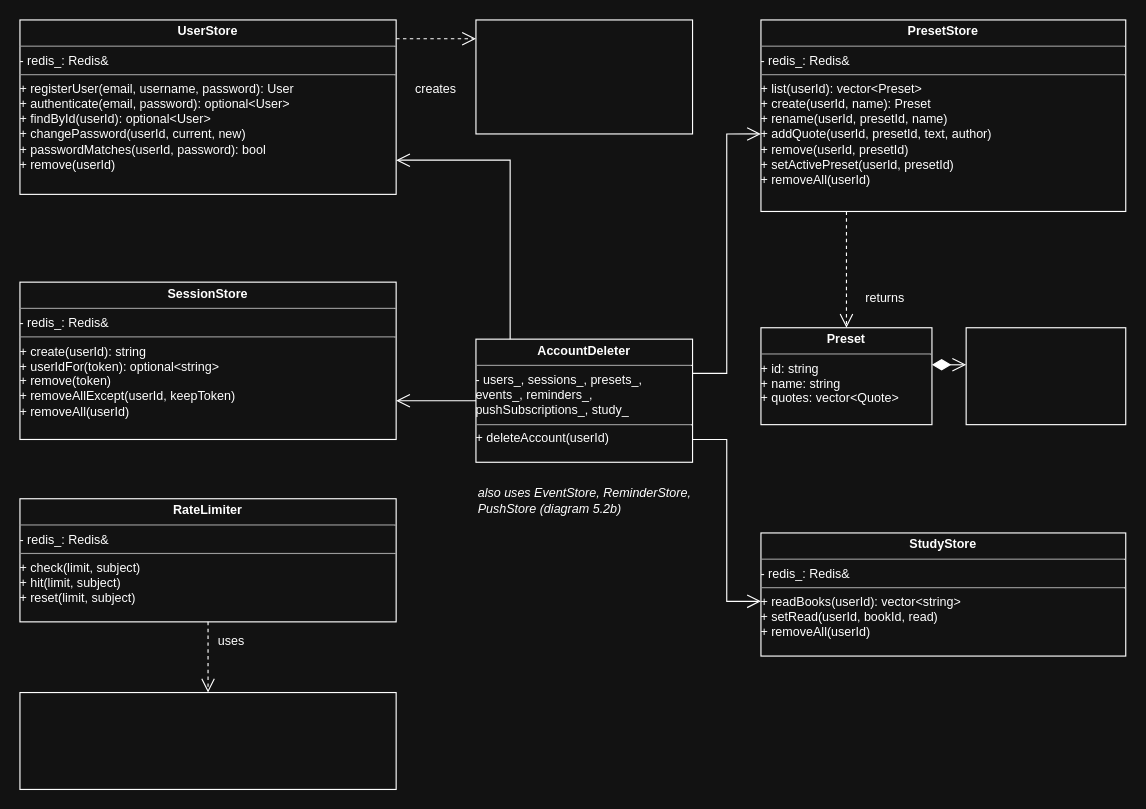
Image size: 1146x809. Some labels were removed from this diagram. Each missing label, with the centre of its shape:
"Quote + id: string + text: string + author: string" belongs at (1045,376).
"RateLimit + name: string + maxHits: long long + window: seconds" belongs at (207,740).
"User + id: string + email: string + username: string + createdAt: long long" belongs at (584,76).
